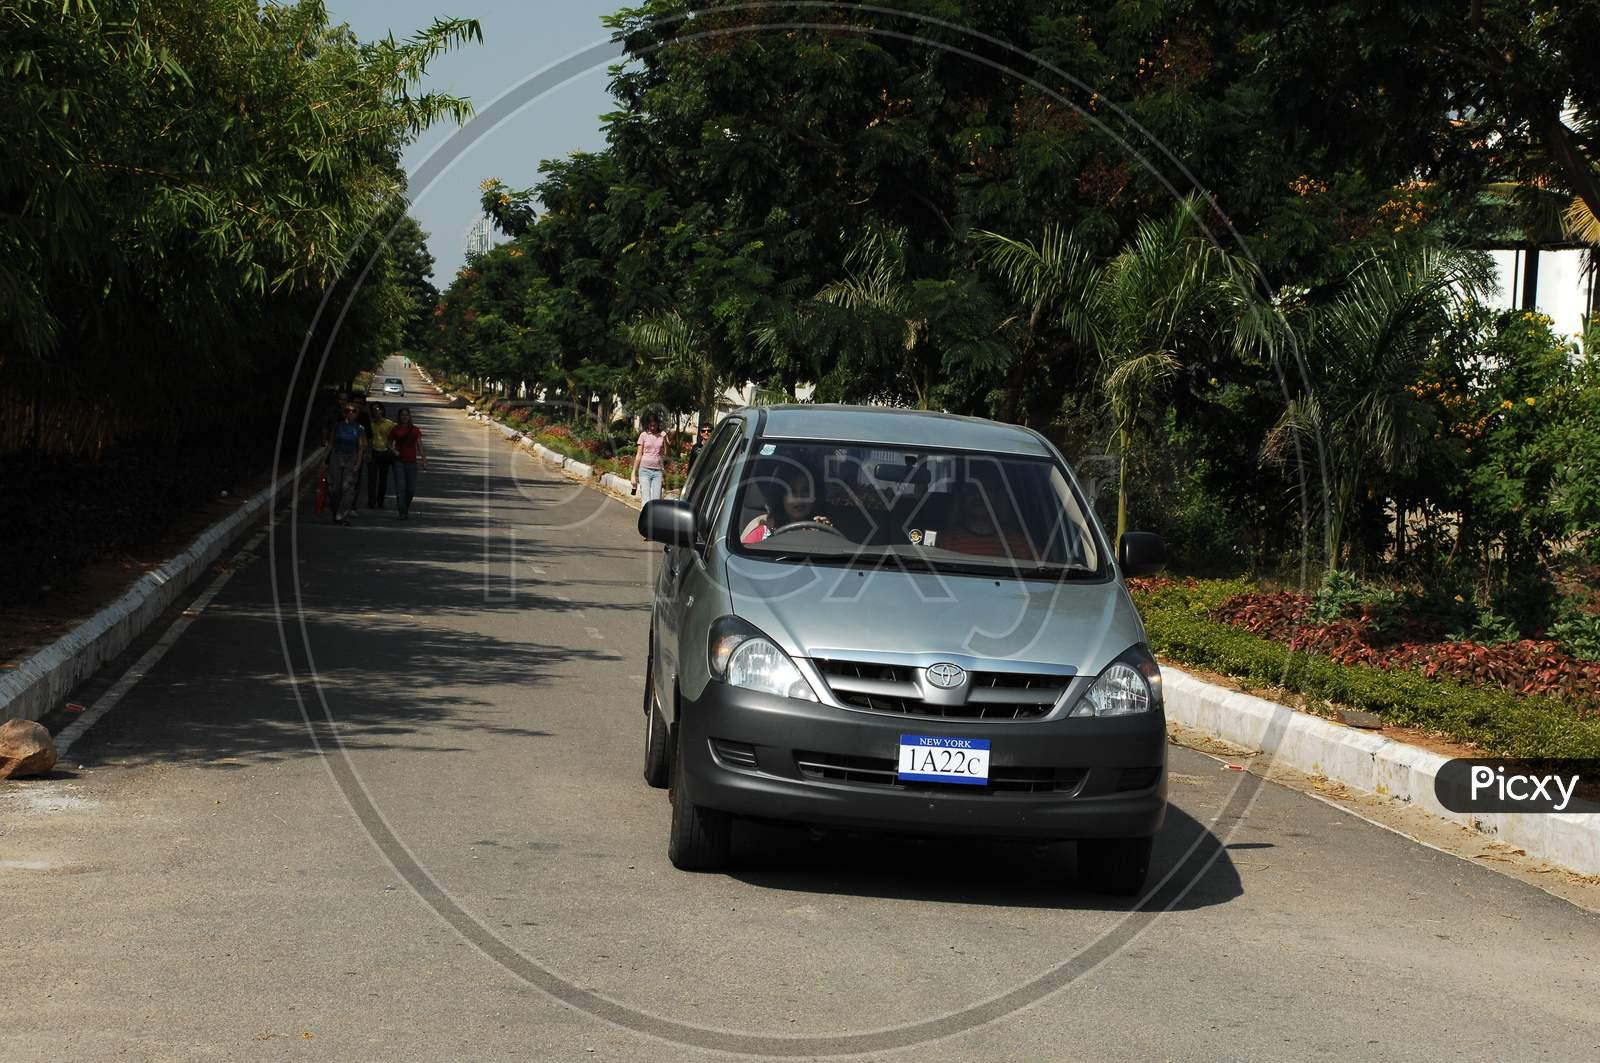car: (611, 354, 1210, 935)
